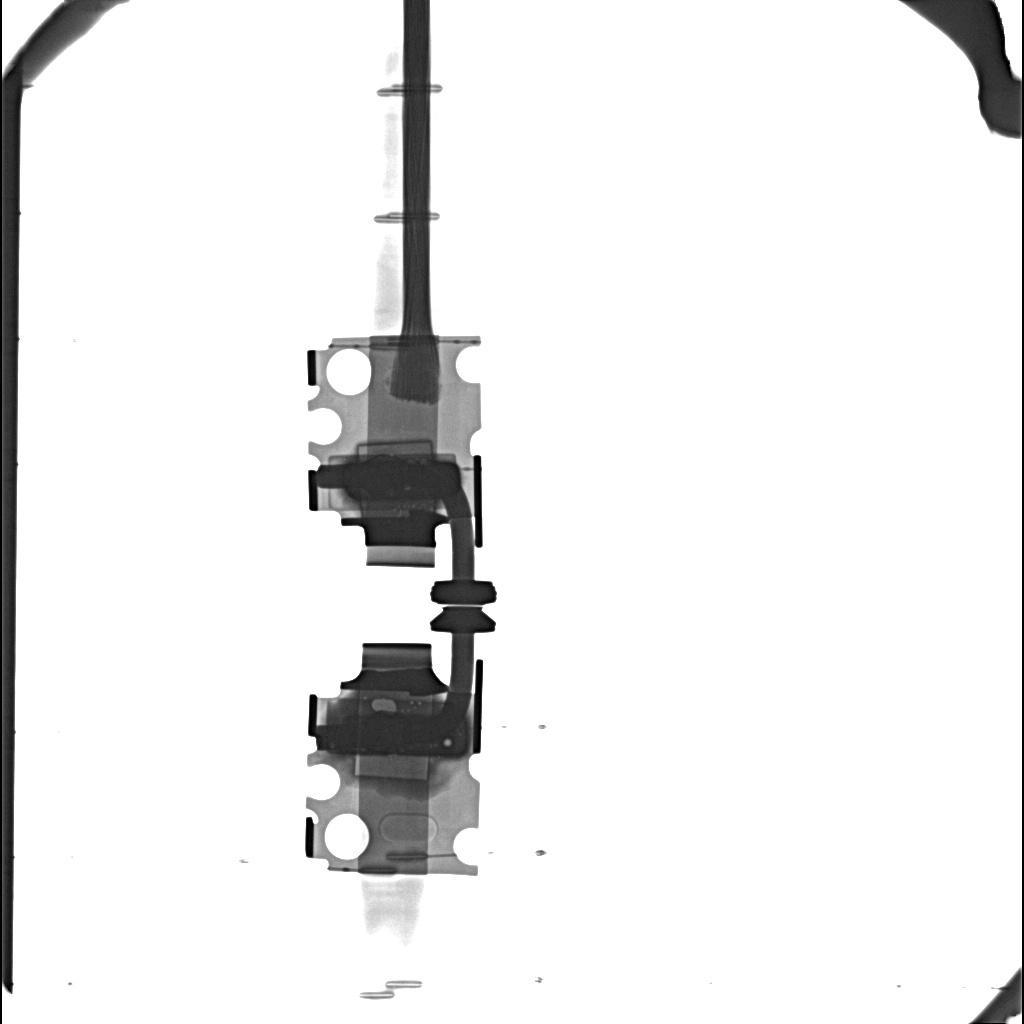气孔: (351, 758, 431, 782), (356, 440, 435, 456)
气泡: (372, 698, 397, 712)
水纹: (336, 715, 467, 755), (345, 456, 461, 499)
